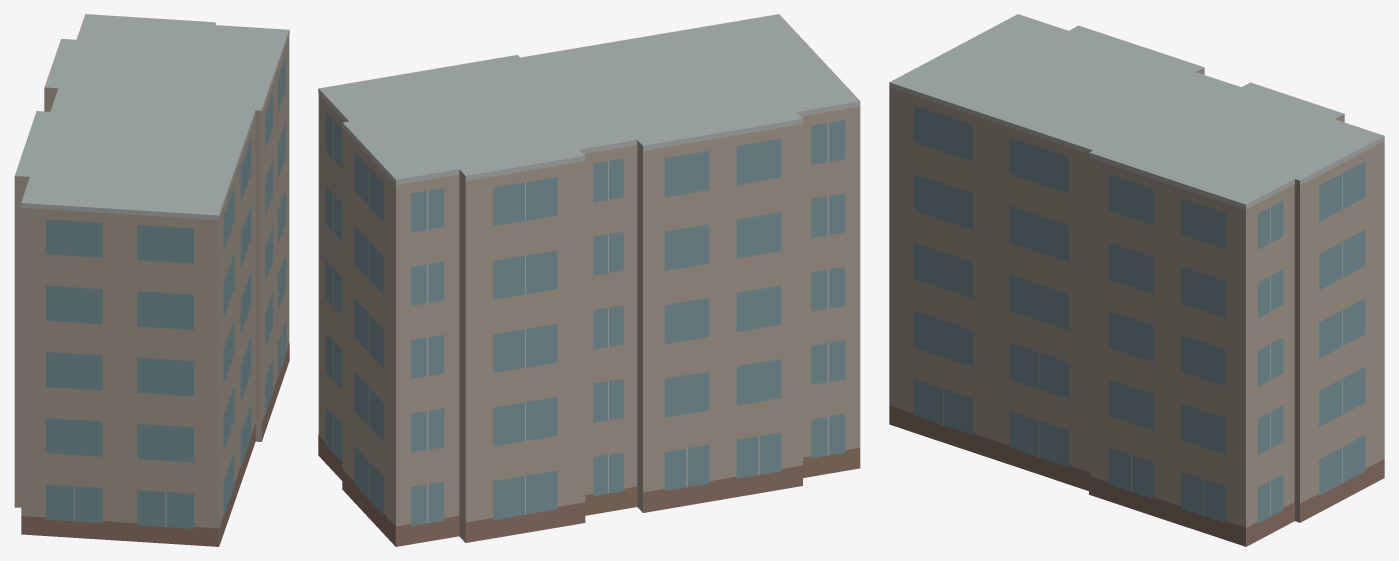
Rendered from survey-upis-32732195.glb.
The picture shows the model from 3 angles, left to right: view 1: azimuth 30°, elevation 25°; view 2: azimuth 150°, elevation 25°; view 3: azimuth 270°, elevation 25°; orthographic projection. The views are drawn at different scales.
Visible parts, largest first — view 1: survey-upis-32732195.tmp; view 2: survey-upis-32732195.tmp; view 3: survey-upis-32732195.tmp.
Part boxes in pixels (box(x1,y1,x2,y2)): survey-upis-32732195.tmp: box(14, 14, 289, 546); survey-upis-32732195.tmp: box(318, 14, 860, 546); survey-upis-32732195.tmp: box(889, 14, 1384, 546).
Bounding box in the file's own units: 19.98 × 16.7 × 21.92.
